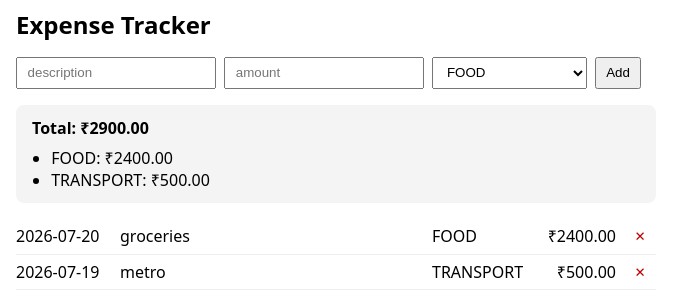
Test: Expense Tracker app › deletes an expense
Expected: the text "metro" is shown, [120, 261, 166, 283]
Click the button named "delete metro" at (640, 272), box [624, 264, 656, 280]
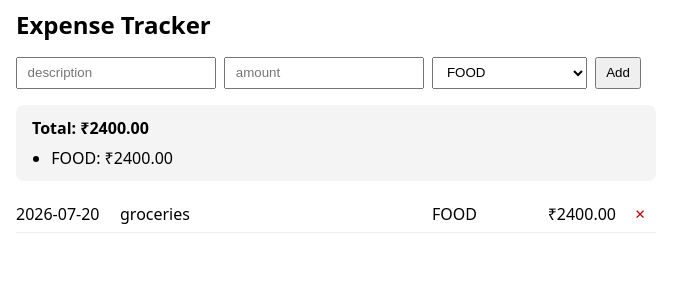
Expected: the text "groceries" is shown, [120, 203, 190, 225]
Expected: the text "metro" is gone
